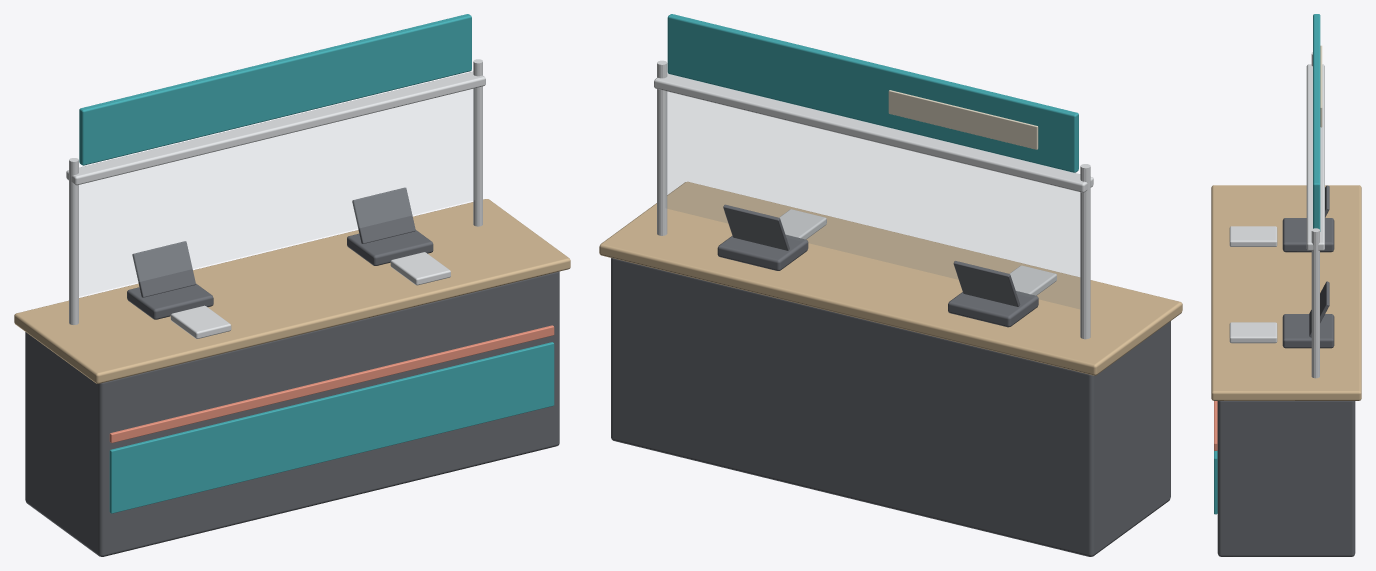
Rendered from public-aquarium-and-marine-centre-ticket-desk-5d81c4f6__34162.glb.
The picture shows the model from 3 angles, left to right: view 1: azimuth 30°, elevation 25°; view 2: azimuth 150°, elevation 25°; view 3: azimuth 270°, elevation 25°; orthographic projection. The views are drawn at different scales.
Visible parts, largest first — view 1: ticket-desk; view 2: ticket-desk; view 3: ticket-desk.
Boxes of the visible parts, x1,y1,x2,y2 form: ticket-desk: [14, 14, 570, 556]; ticket-desk: [599, 14, 1182, 556]; ticket-desk: [1211, 14, 1361, 556].
Bounding box in the file's own units: 2.68 × 2.16 × 0.8199.
